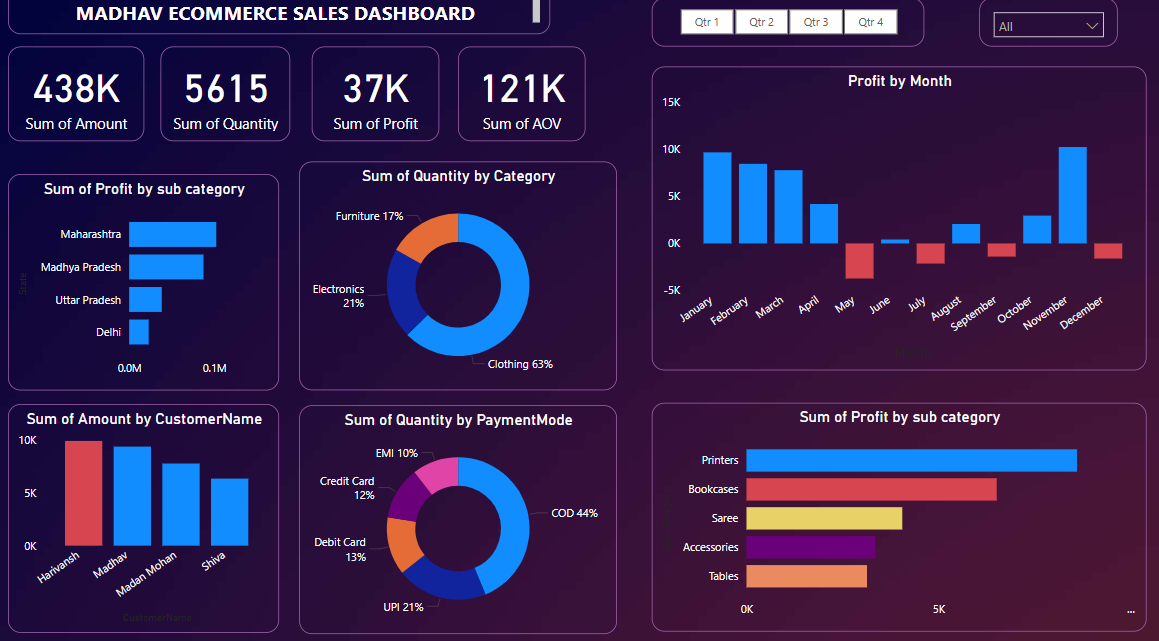

The dashboard page shown, as its layout file describes it:
{"tool":"powerbi","page":{"name":"Page 1","canvas":[1280,720],"ordinal":0},"visuals":[{"type":"textbox","box":[11,0,595.5,49.4],"z":0},{"type":"columnChart","title":"Profit by Month","fields":{"Category":["Orders.Order Date.Variation.Date Hierarchy.Month"],"Y":["Details.Profit"]},"box":[717.7,85.1,543.4,333.4],"z":1000},{"type":"clusteredBarChart","title":"Sum of Profit by sub category","fields":{"Category":["Details.Sub-Category"],"Y":["Details.Profit"]},"box":[717.7,454.2,543.4,251.1],"z":2000},{"type":"donutChart","fields":{"Category":["Details.Category"],"Y":["Details.Quantity"]},"box":[330.7,189.4,348.5,251.1],"z":3000},{"type":"donutChart","fields":{"Category":["Details.PaymentMode"],"Y":["Details.Quantity"]},"box":[330.7,456.9,348.5,251.1],"z":4000},{"type":"card","fields":{"Values":["Details.Amount"]},"box":[11,63.1,149.6,104.3],"z":5000},{"type":"card","fields":{"Values":["Details.Quantity"]},"box":[178.4,63.1,142.7,104.3],"z":6000},{"type":"card","fields":{"Values":["Details.Profit"]},"box":[344.4,63.1,140,104.3],"z":7000},{"type":"card","fields":{"Values":["Details.AOV"]},"box":[505,63.1,140,104.3],"z":8000},{"type":"clusteredBarChart","title":"Sum of Profit by sub category","fields":{"Category":["Orders.State"],"Y":["Details.Amount"]},"box":[11,203.1,297.8,237.4],"z":9000},{"type":"columnChart","fields":{"Category":["Orders.CustomerName"],"Y":["Details.Amount"]},"box":[11,455.6,297.8,251.1],"z":10000},{"type":"slicer","fields":{"Values":["Orders.Order Date.Variation.Date Hierarchy.Quarter"]},"box":[717.7,9.6,299.1,53.5],"z":11000},{"type":"slicer","fields":{"Values":["Orders.State"]},"box":[1077.2,9.6,152.3,53.5],"z":12000}]}

Visuals, with their boxes in screenshot pixels (x1, y1, x2, y2), scaled from the page's 1280x720 canvas onto the 1159x641 screenshot:
textbox: (x1=10, y1=0, x2=549, y2=44)
"Profit by Month" columnChart: (x1=650, y1=76, x2=1142, y2=373)
"Sum of Profit by sub category" clusteredBarChart: (x1=650, y1=404, x2=1142, y2=628)
donutChart - Details.Category x Details.Quantity: (x1=299, y1=169, x2=615, y2=392)
donutChart - Details.PaymentMode x Details.Quantity: (x1=299, y1=407, x2=615, y2=630)
card - Details.Amount: (x1=10, y1=56, x2=145, y2=149)
card - Details.Quantity: (x1=162, y1=56, x2=291, y2=149)
card - Details.Profit: (x1=312, y1=56, x2=439, y2=149)
card - Details.AOV: (x1=457, y1=56, x2=584, y2=149)
"Sum of Profit by sub category" clusteredBarChart: (x1=10, y1=181, x2=280, y2=392)
columnChart - Orders.CustomerName x Details.Amount: (x1=10, y1=406, x2=280, y2=629)
slicer - Orders.Order Date.Variation.Date Hierarchy.Quarter: (x1=650, y1=9, x2=921, y2=56)
slicer - Orders.State: (x1=975, y1=9, x2=1113, y2=56)
